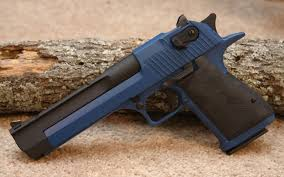gun: (10, 12, 275, 159)
